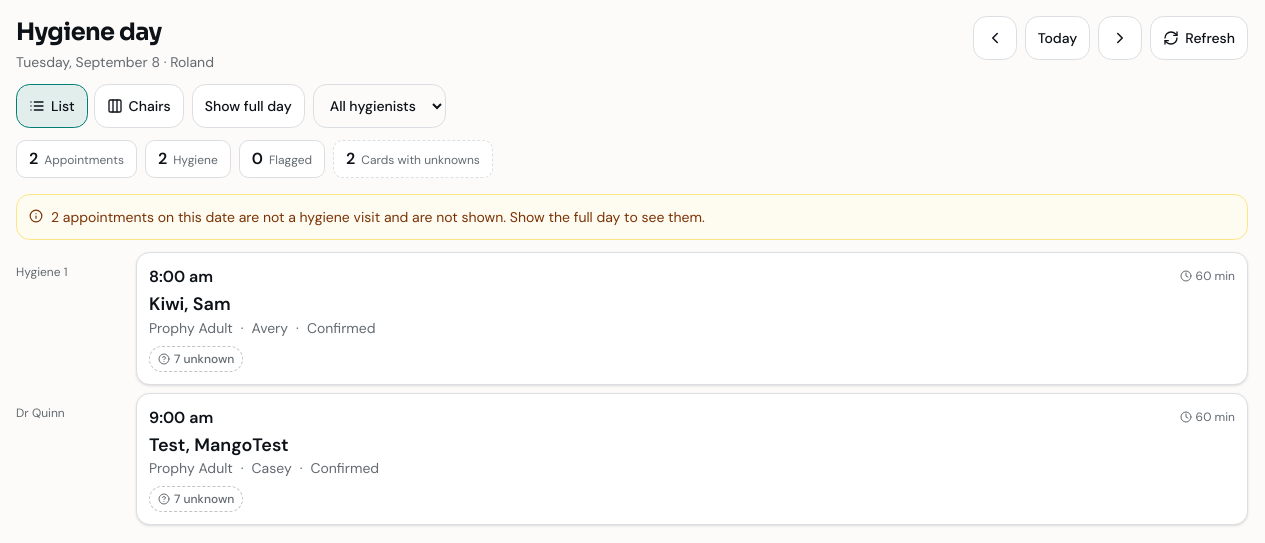
the hygienist picker › filters what is drawn, and asks the server for nothing
The width and height of the screenshot is (1265, 543).
Expected: the element with test id "hyg-day-list" is shown, [16,252,1248,525]
Select "Casey" in the dropdown with test id "hyg-provider-picker" at (379, 106), box [313,84,446,128]
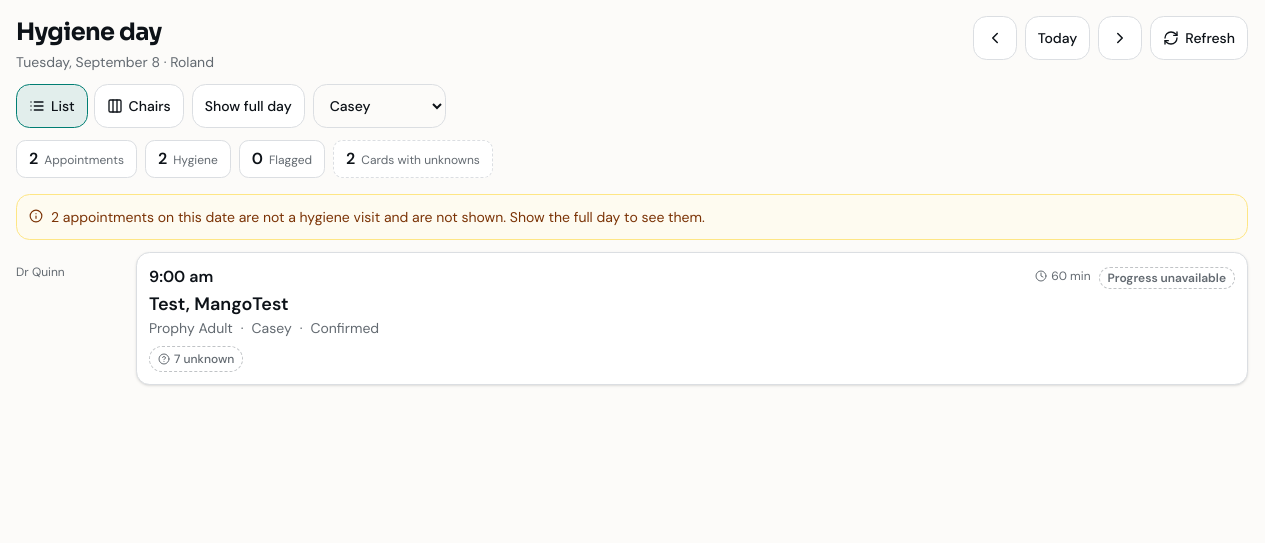
Expected: the text "Test, MangoTest" is shown, [149,292,289,316]
Expected: the number of links with test id "hyg-appointment-card" is 1, [136,252,1248,384]
